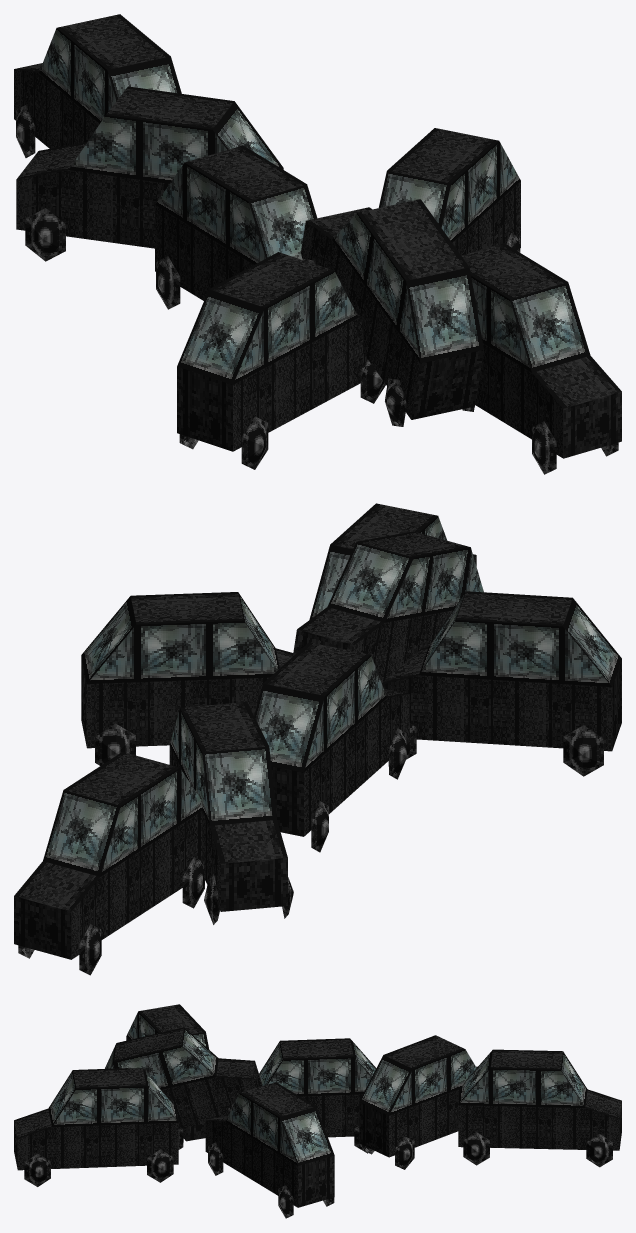
The model's file is carsfence2.obj.
3 views of the same model, one above another, from view 1: azimuth 30°, elevation 25°; view 2: azimuth 150°, elevation 25°; view 3: azimuth 270°, elevation 25° (orthographic). The views are drawn at different scales.
Visible parts, largest first — view 1: carsfence2; view 2: carsfence2; view 3: carsfence2.
Boxes of the visible parts, left/top/right/bottom form: carsfence2: left=14, top=14, right=621, bottom=474; carsfence2: left=14, top=503, right=621, bottom=975; carsfence2: left=14, top=1004, right=621, bottom=1218.
Size of the model in its own units: 9.04 by 3.68 by 16.96.
